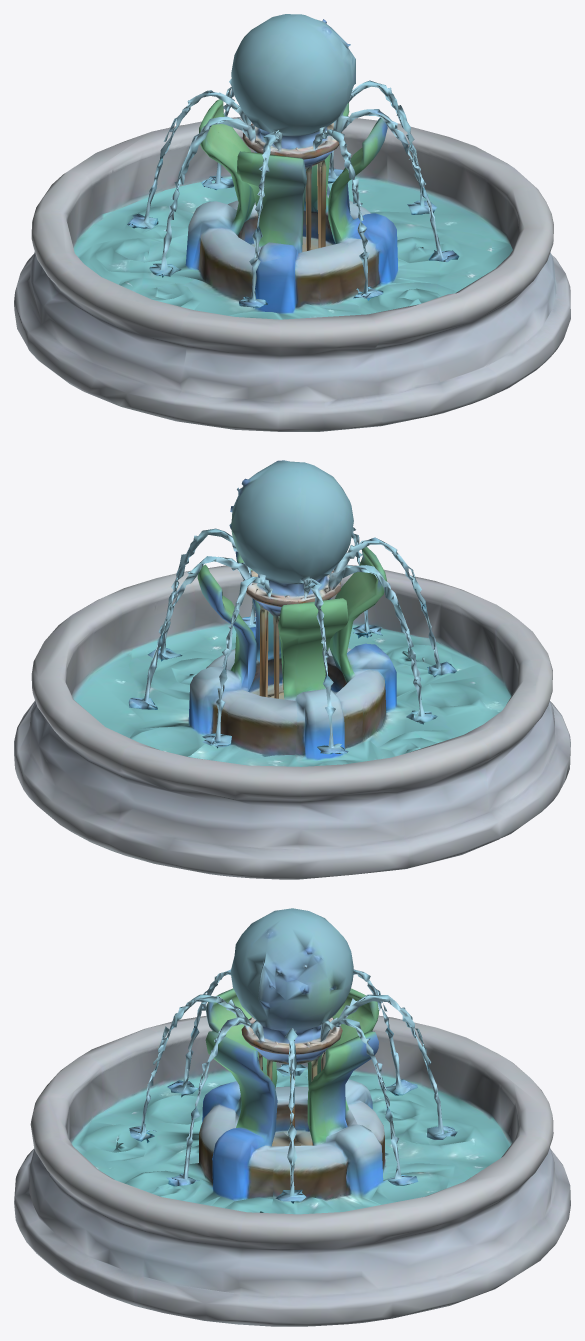
Rendered from fuente.glb.
3 views of the same model, one above another, from view 1: azimuth 30°, elevation 25°; view 2: azimuth 150°, elevation 25°; view 3: azimuth 270°, elevation 25° (orthographic).
Visible parts, largest first — view 1: tripo_node_66bd7231-e6e7-4cff-bbef-6161ea2dba30; view 2: tripo_node_66bd7231-e6e7-4cff-bbef-6161ea2dba30; view 3: tripo_node_66bd7231-e6e7-4cff-bbef-6161ea2dba30.
Part boxes in pixels (box(x1,y1,x2,y2)): tripo_node_66bd7231-e6e7-4cff-bbef-6161ea2dba30: box(14, 14, 570, 431); tripo_node_66bd7231-e6e7-4cff-bbef-6161ea2dba30: box(14, 460, 570, 879); tripo_node_66bd7231-e6e7-4cff-bbef-6161ea2dba30: box(14, 908, 570, 1326).
Bounding box in the file's own units: 0.9975 × 0.5891 × 0.9986.
Materials: 1 (1 with a texture image).
